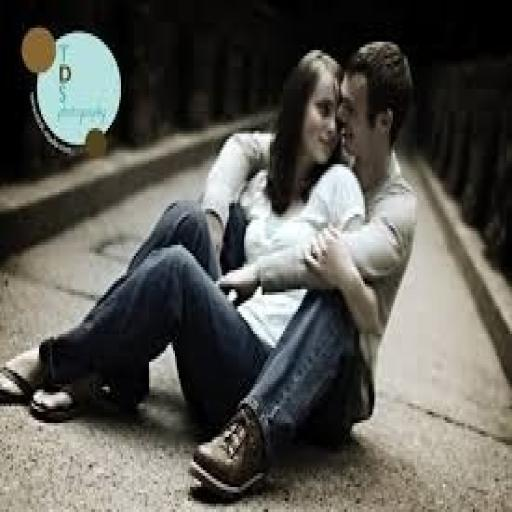hugging: (2, 36, 421, 507)
